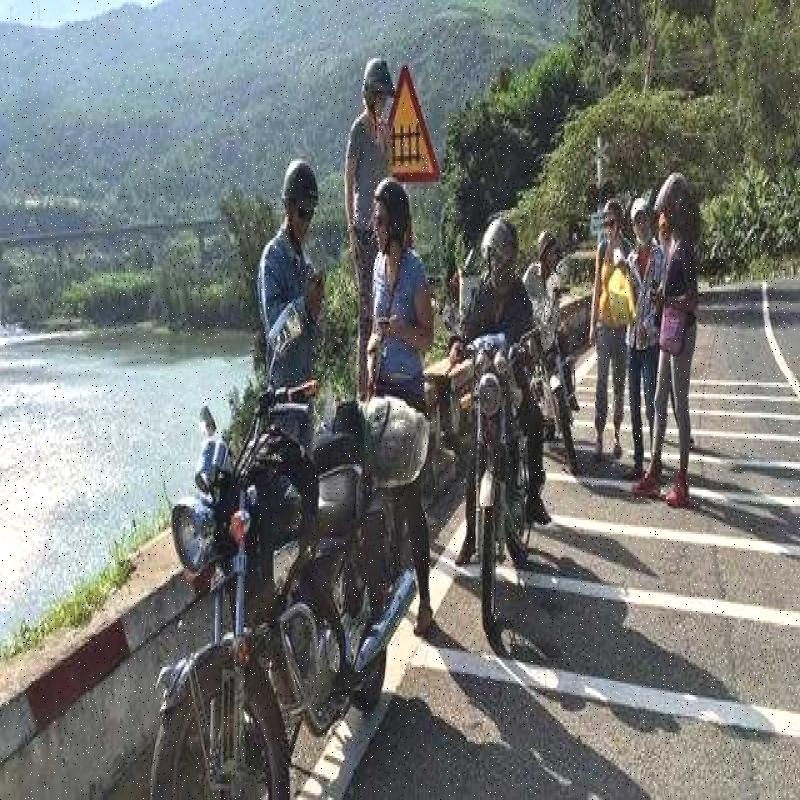bike: (142, 370, 421, 800), (438, 308, 543, 650), (527, 294, 580, 464)
